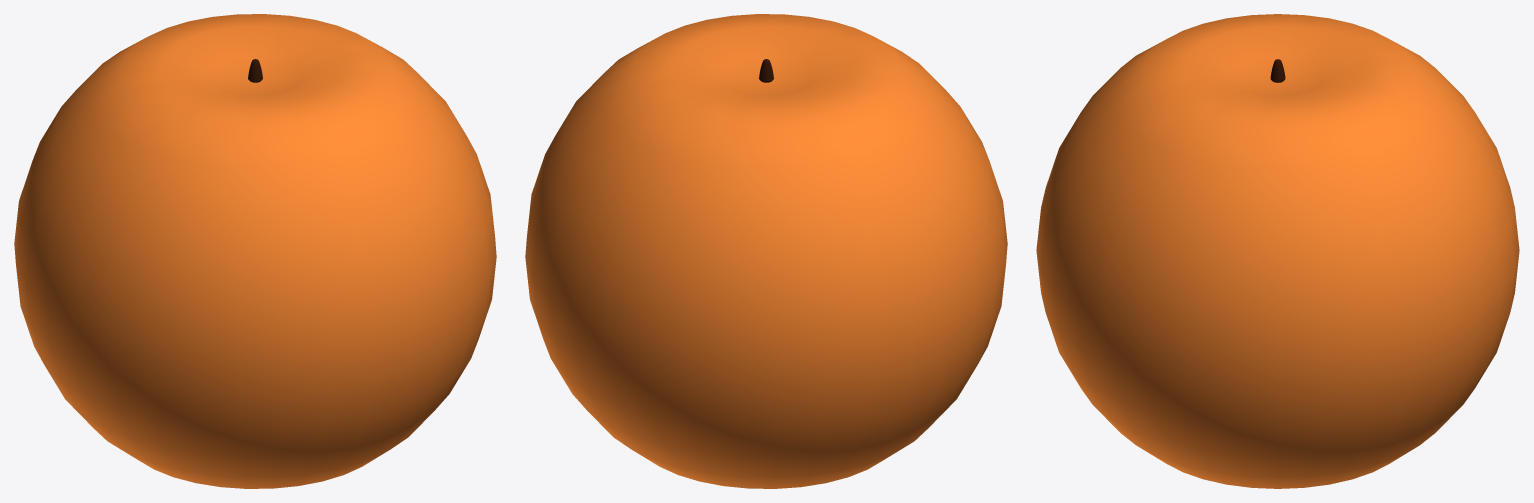
Rendered from Pear.fbx.
3 views of the same model, side by side, from view 1: azimuth 30°, elevation 25°; view 2: azimuth 150°, elevation 25°; view 3: azimuth 270°, elevation 25° (orthographic).
Parts seen in each view (by area): view 1: Sphere006; view 2: Sphere006; view 3: Sphere006.
Part boxes in pixels (x1,y1,x2,y2): Sphere006: (14,14,496,488); Sphere006: (525,14,1007,488); Sphere006: (1036,14,1519,488).
Size of the model in its own units: 115 by 104 by 115.
